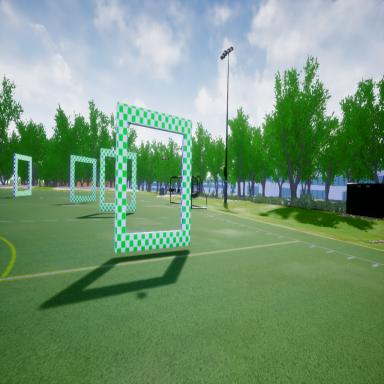gate: (115, 97, 193, 264)
